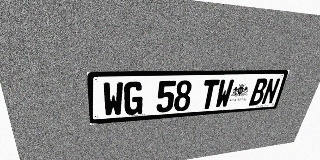5: (156, 80, 176, 113)
8: (173, 80, 193, 111)
B: (248, 78, 269, 106)
G: (124, 81, 144, 115)
N: (261, 78, 281, 105)
T: (199, 79, 220, 109)
W: (102, 82, 123, 117), (214, 79, 235, 108)
